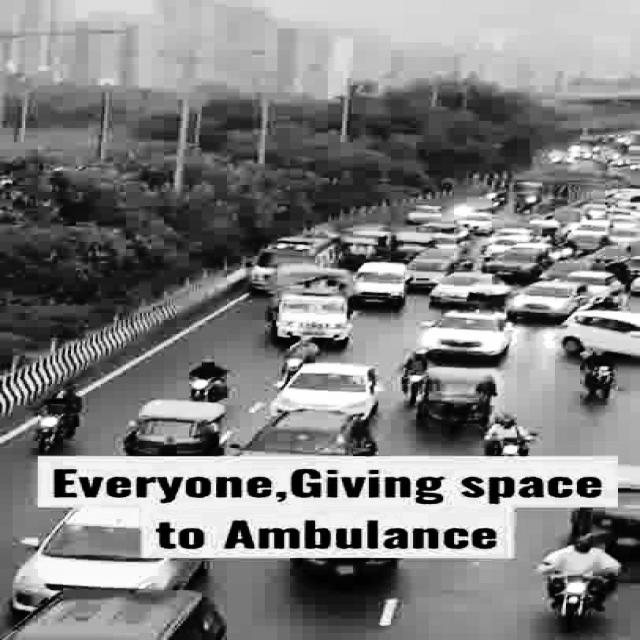Ambulance: (246, 232, 347, 286)
